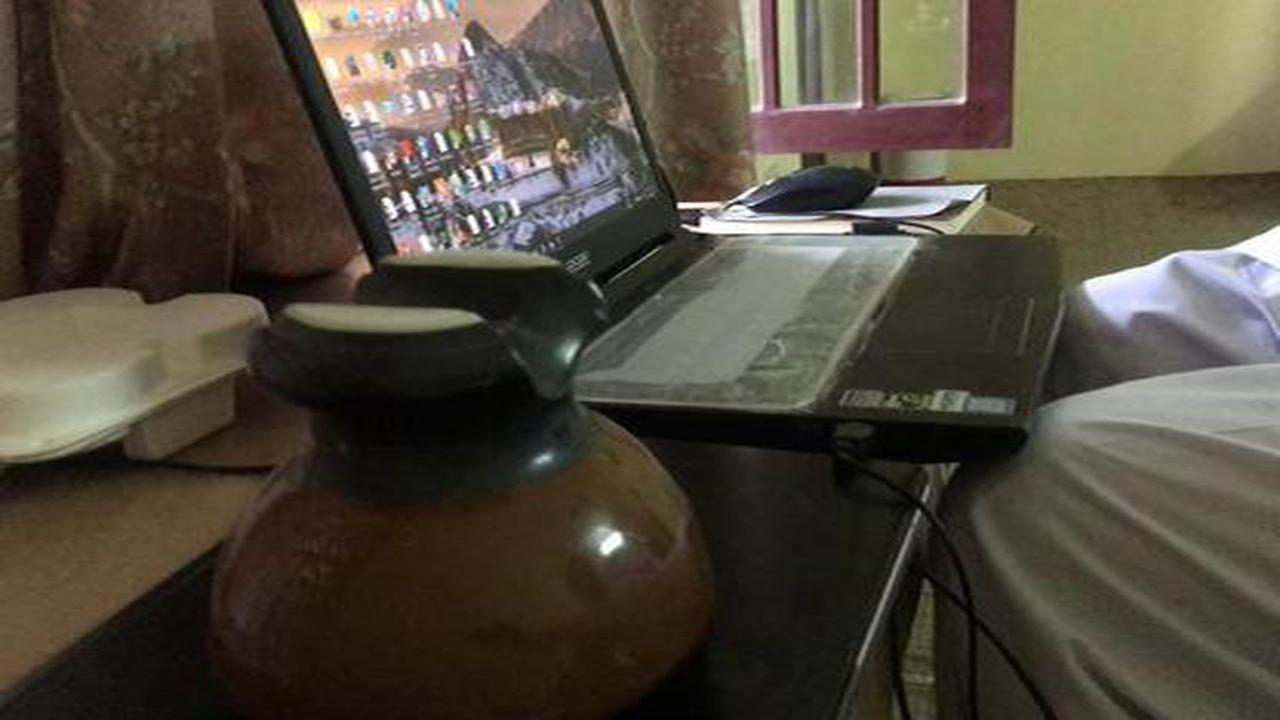insulator_pin: (182, 245, 751, 719)
